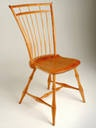obstacle: (9, 0, 84, 125)
